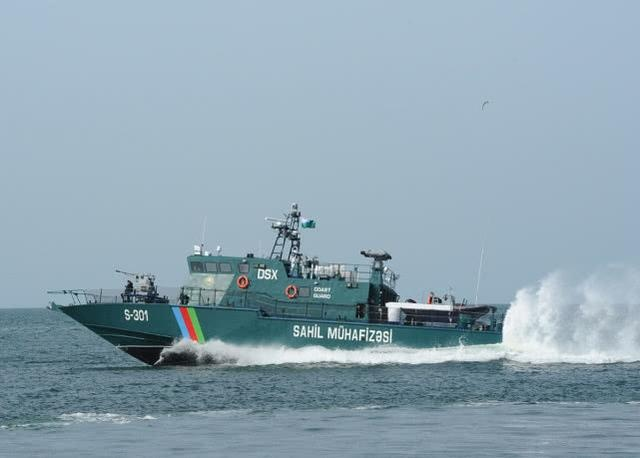warship: (35, 176, 529, 381)
